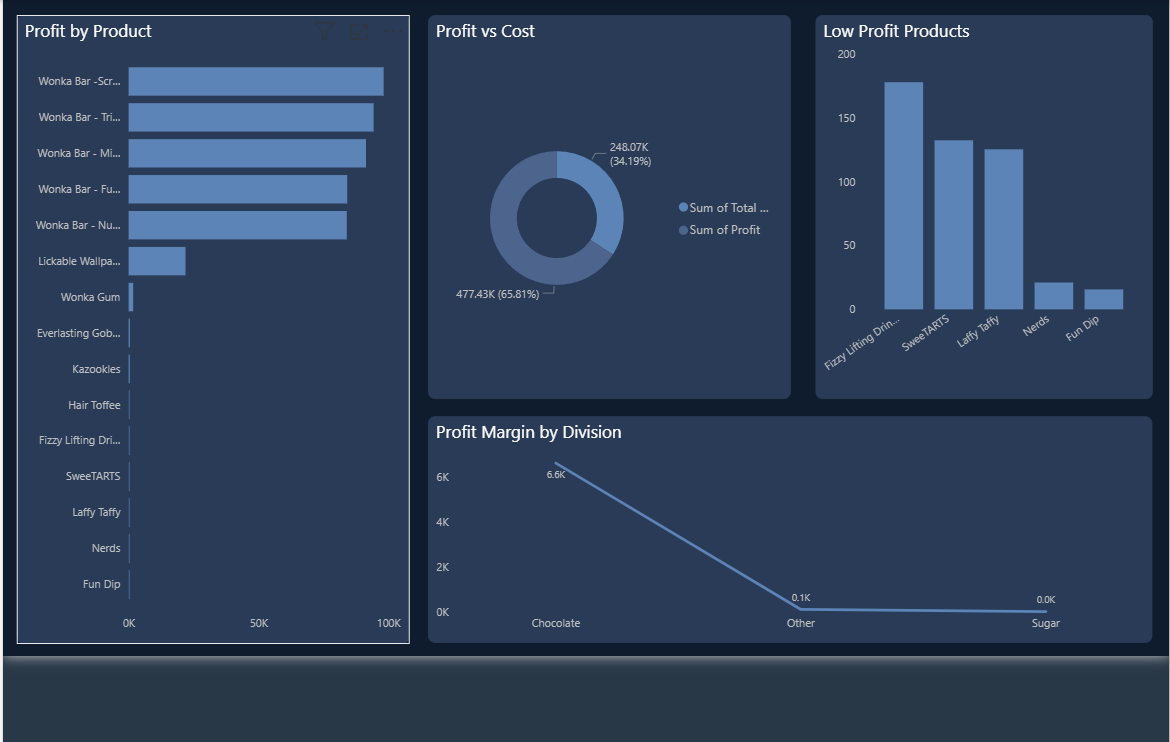

Layout of this report page (visuals, bound fields, positions):
{"tool":"powerbi","page":{"name":"Profit","canvas":[1280,720],"ordinal":2},"visuals":[{"type":"clusteredBarChart","title":"Profit by Product","fields":{"Category":["Candy_Sales.Product Name"],"Y":["Sum(Candy_Sales.Profit)"]},"box":[14.8,16.4,431.1,690.2],"z":0},{"type":"donutChart","title":"Profit vs Cost","fields":{"Y":["Sum(Candy_Sales.Total Cost)","Sum(Candy_Sales.Profit)"]},"box":[467.2,16.4,398.4,421.3],"z":1000},{"type":"lineChart","title":"Profit Margin by Division","fields":{"Category":["Candy_Sales.Division"],"Y":["Sum(Candy_Sales.Profit Margin)"]},"box":[467.2,457.4,795.1,249.2],"z":2000},{"type":"columnChart","title":"Low Profit Products","fields":{"Category":["Candy_Sales.Product Name"],"Y":["Sum(Candy_Sales.Profit)"]},"box":[891.8,16.4,370.5,421.3],"z":3000}]}

Visuals, with their boxes on the page's 1280x720 design canvas (x1, y1, x2, y2). These are canvas units, not pixel positions in the 1170x742 screenshot, which may show the page scaled, cropped or inside an application window:
"Profit by Product" clusteredBarChart: (15,16,446,707)
"Profit vs Cost" donutChart: (467,16,866,438)
"Profit Margin by Division" lineChart: (467,457,1262,707)
"Low Profit Products" columnChart: (892,16,1262,438)
